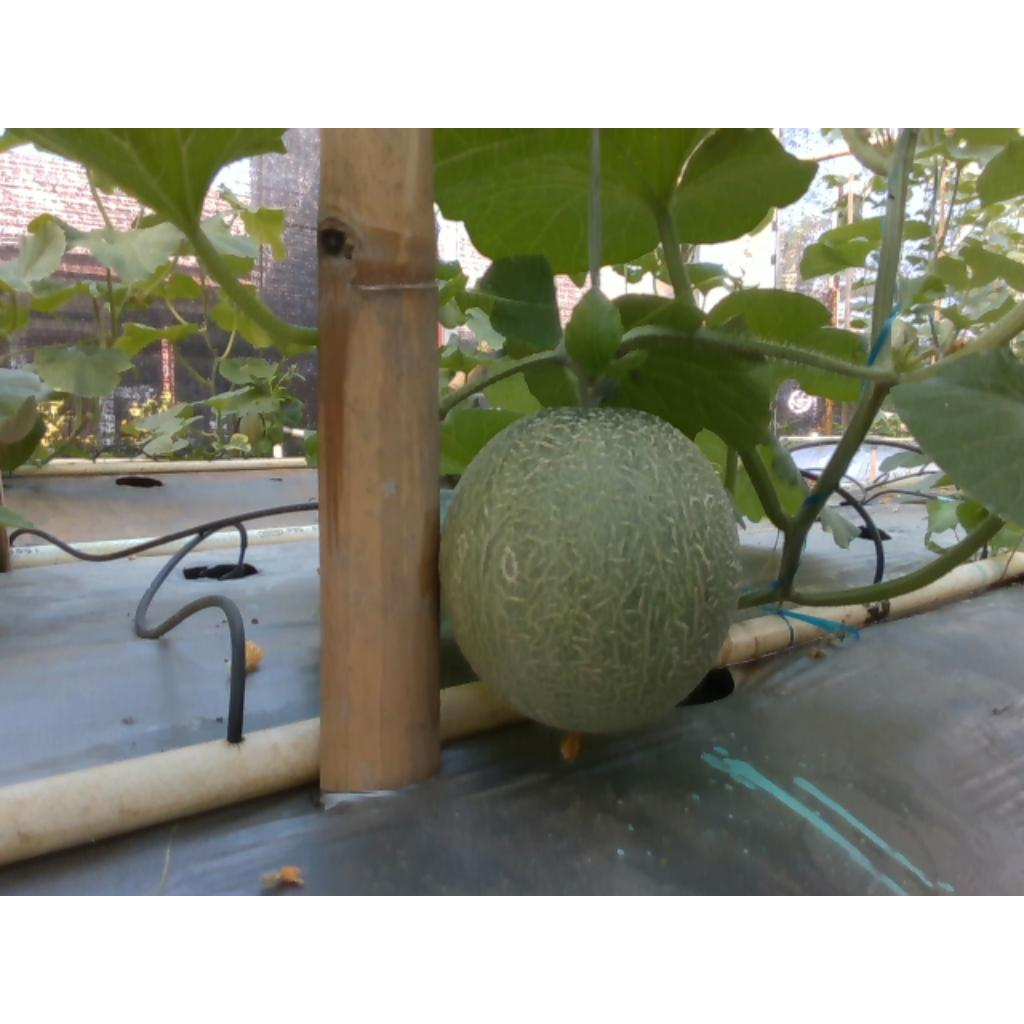melon: (442, 410, 739, 732)
